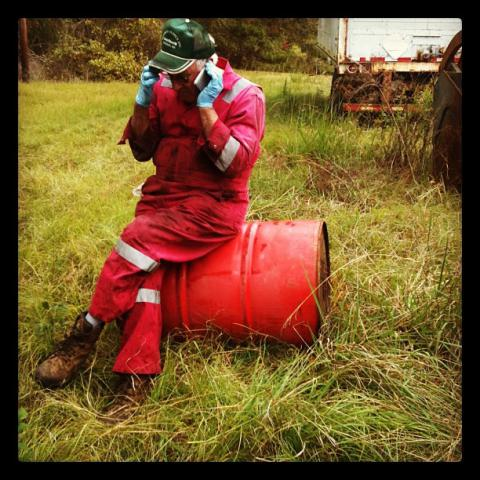truck: (329, 18, 463, 127)
